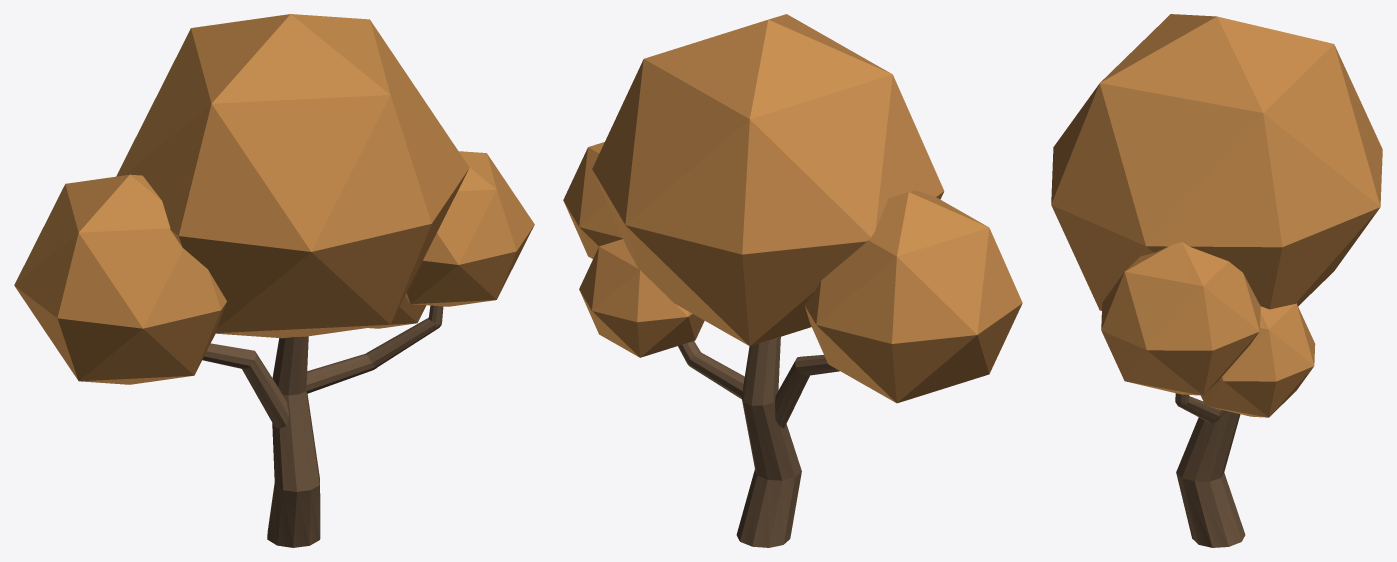
Rendered from tree_orange_1.glb.
3 renders of one model, left to right at view 1: azimuth 30°, elevation 25°; view 2: azimuth 150°, elevation 25°; view 3: azimuth 270°, elevation 25°, orthographic.
Parts seen in each view (by area): view 1: Tree Orange 2; view 2: Tree Orange 2; view 3: Tree Orange 2.
Part boxes in pixels (x1,y1,x2,y2): Tree Orange 2: [14, 14, 534, 547]; Tree Orange 2: [563, 14, 1022, 547]; Tree Orange 2: [1051, 14, 1382, 547].
Size of the model in its own units: 0.2836 by 0.3123 by 0.1809.
